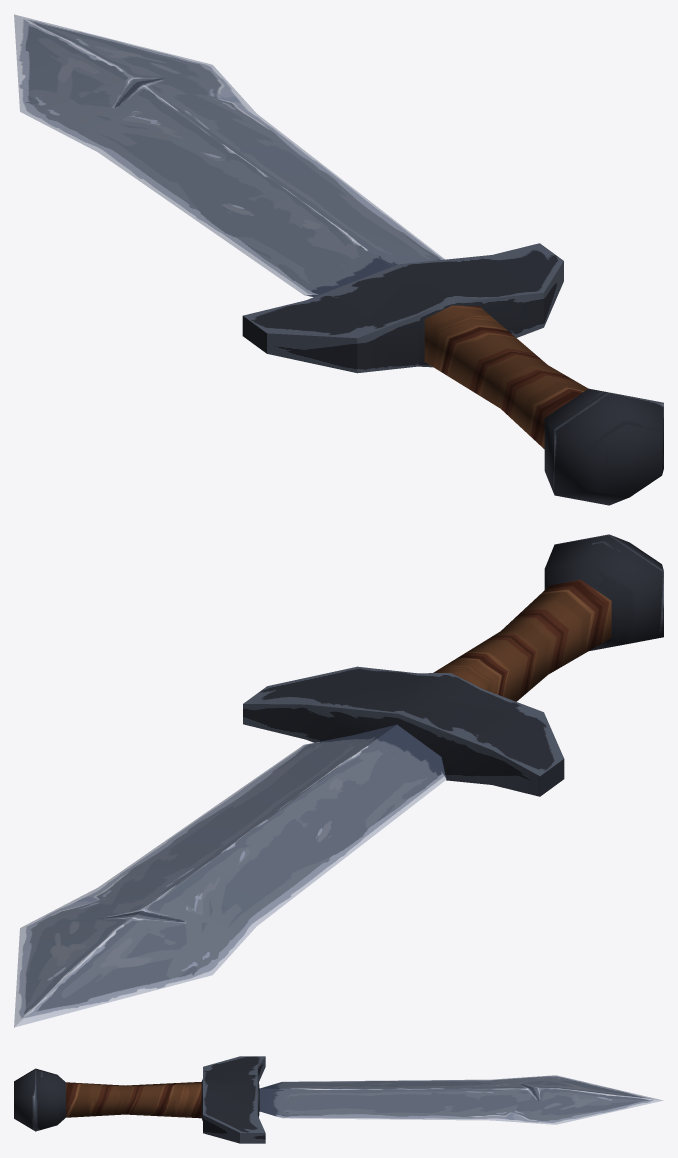
File: SM_PROP_weapon_sword_dungeon_02.fbx
The picture shows the model from 3 angles, top to bottom: view 1: azimuth 30°, elevation 25°; view 2: azimuth 150°, elevation 25°; view 3: azimuth 270°, elevation 25°; orthographic projection. The views are drawn at different scales.
Parts seen in each view (by area): view 1: SM_PROP_weapon_sword_dungeon_02; view 2: SM_PROP_weapon_sword_dungeon_02; view 3: SM_PROP_weapon_sword_dungeon_02.
Part boxes in pixels (<box>): SM_PROP_weapon_sword_dungeon_02: <box>14,14,663,505</box>; SM_PROP_weapon_sword_dungeon_02: <box>14,534,663,1027</box>; SM_PROP_weapon_sword_dungeon_02: <box>14,1056,663,1143</box>.
Bounding box in the file's own units: 18.12 × 6.59 × 65.05.
